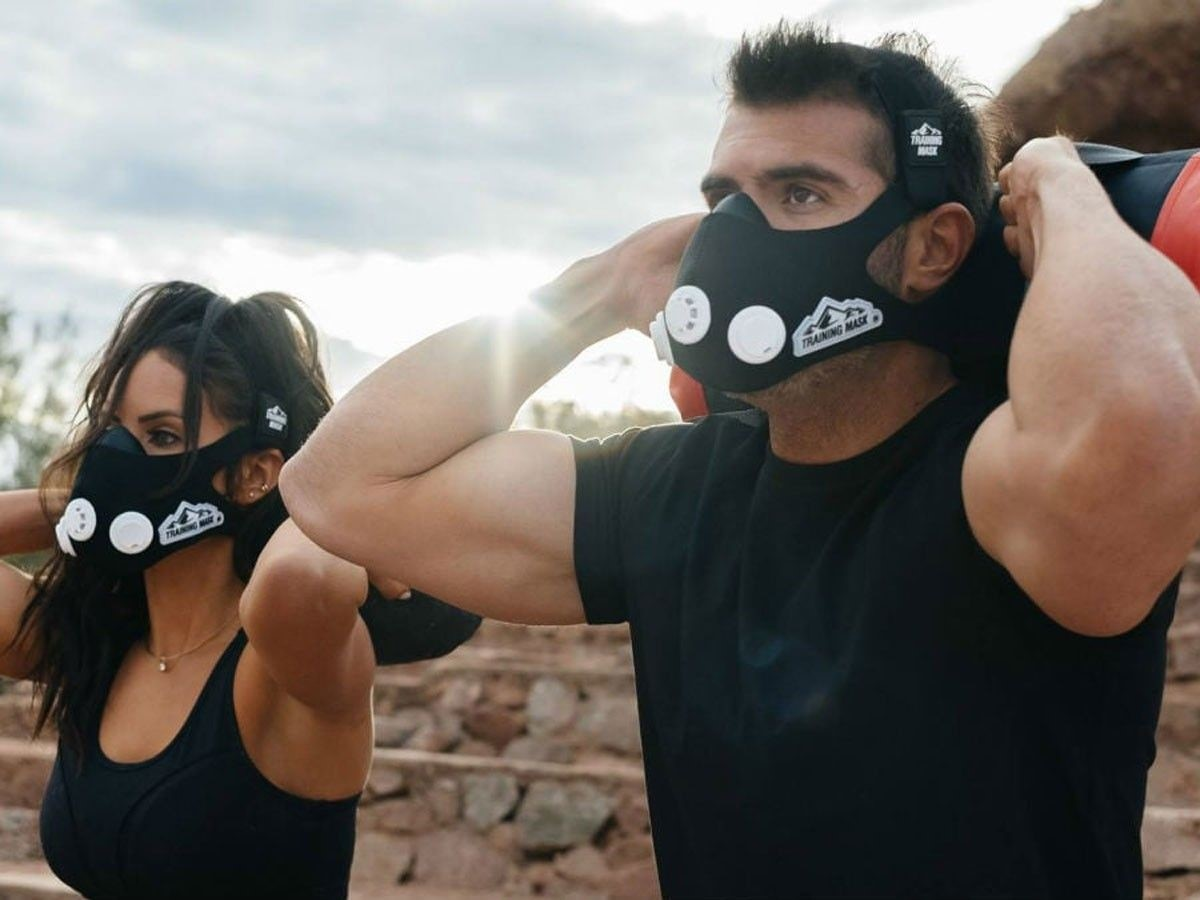face_with_mask: (644, 28, 998, 394), (52, 280, 323, 572)
